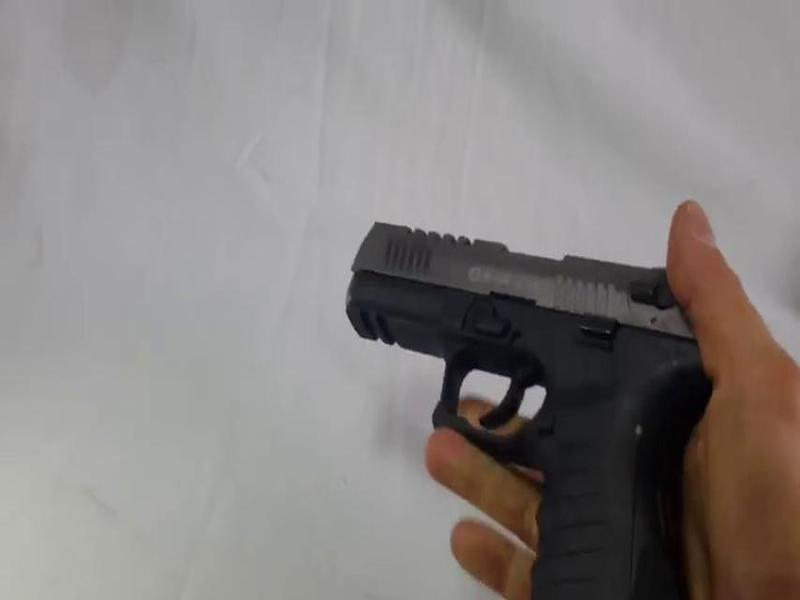Pistola: (316, 190, 721, 599)
